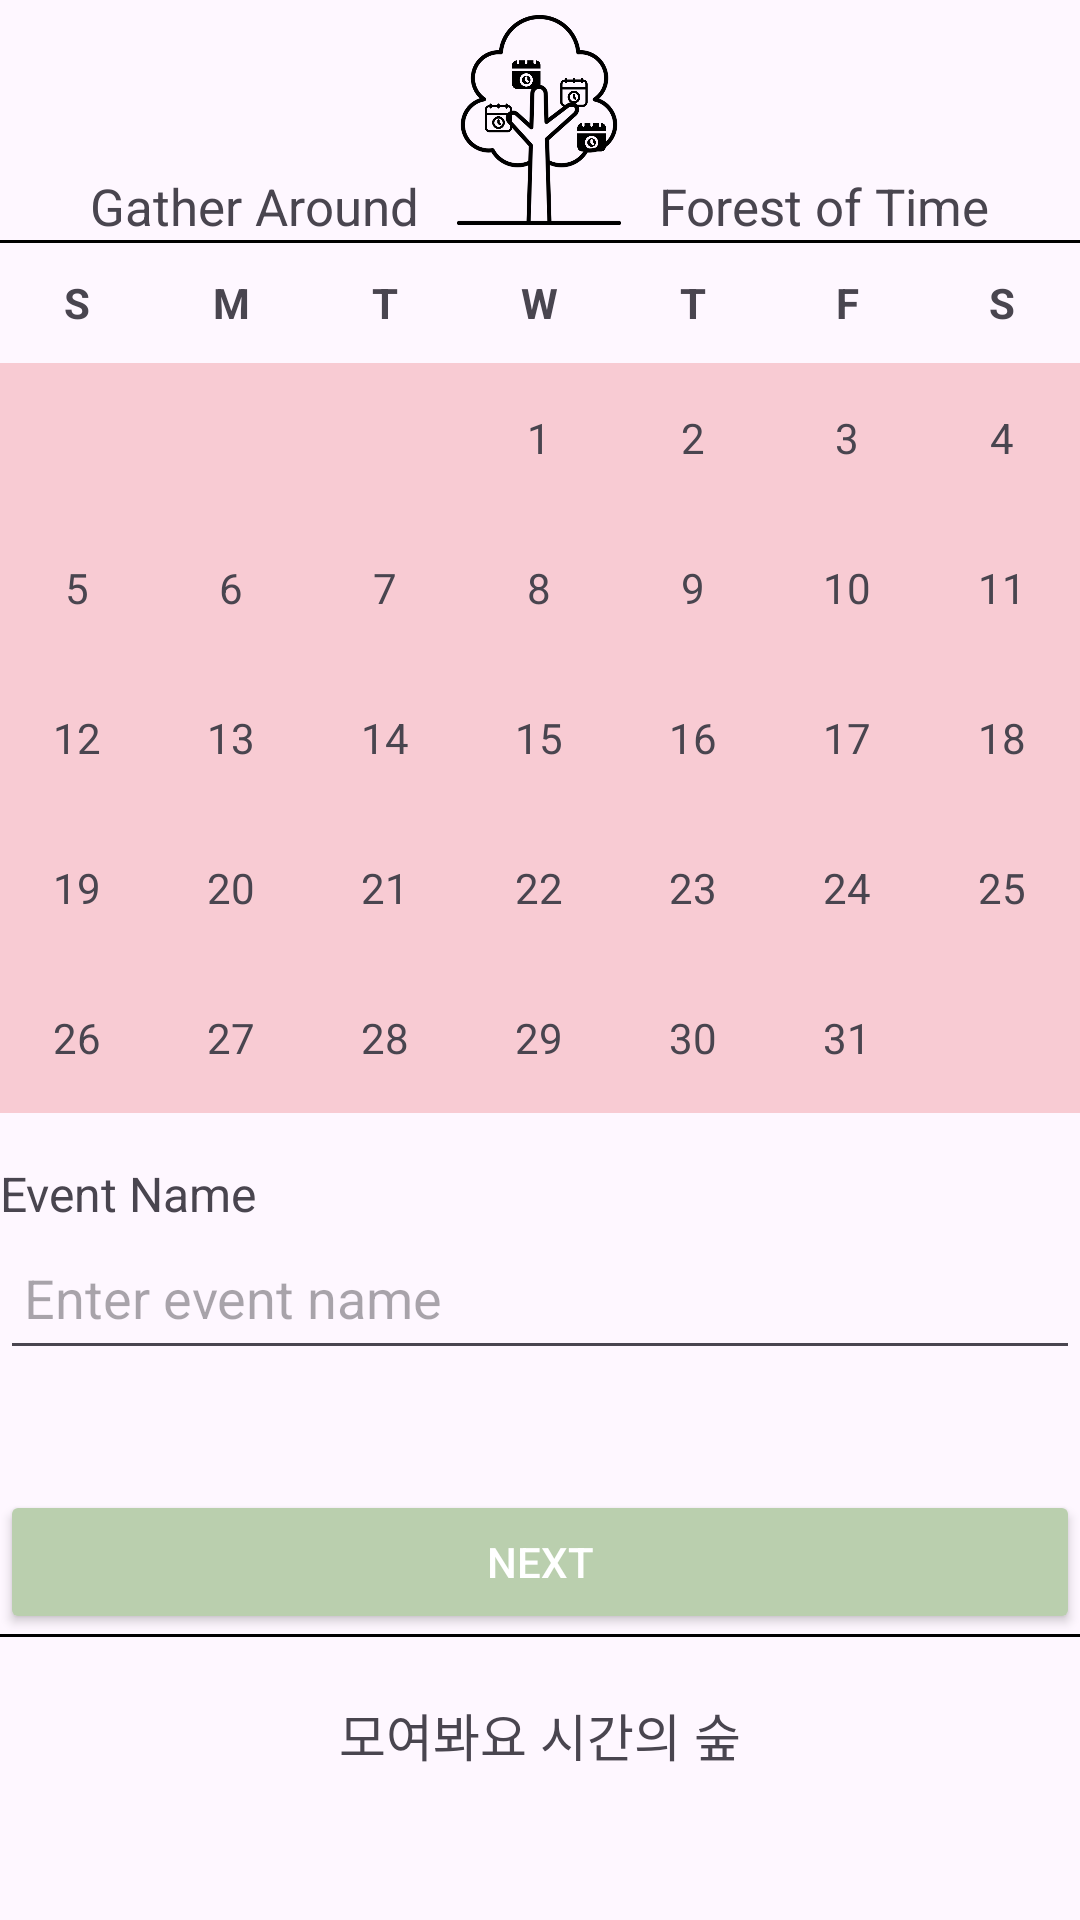

Screen size 1080w x 1920h. Icon name, then its box in pixels as [x1,y1,x2,y2]:
tree: [457,15,621,225]
